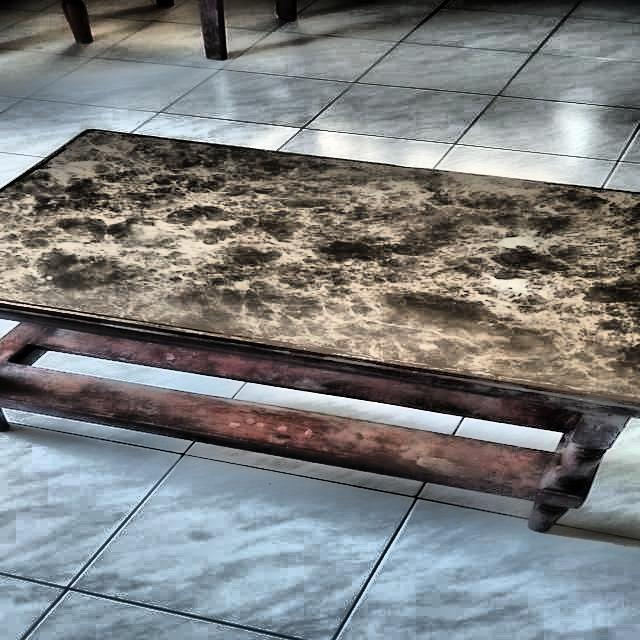mesa: (0, 121, 640, 538)
